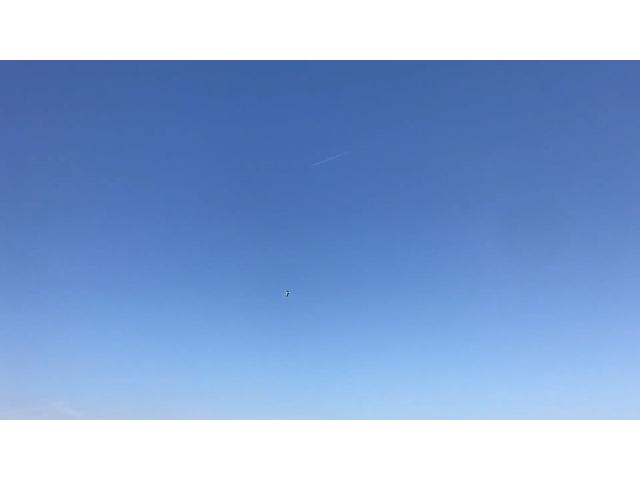Anti-Drone: (277, 278, 297, 304)
